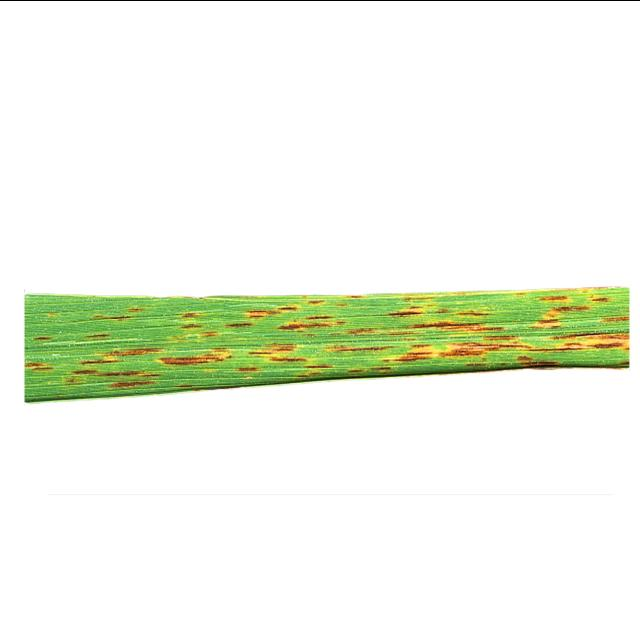Narrow brown: (9, 223, 640, 408)
